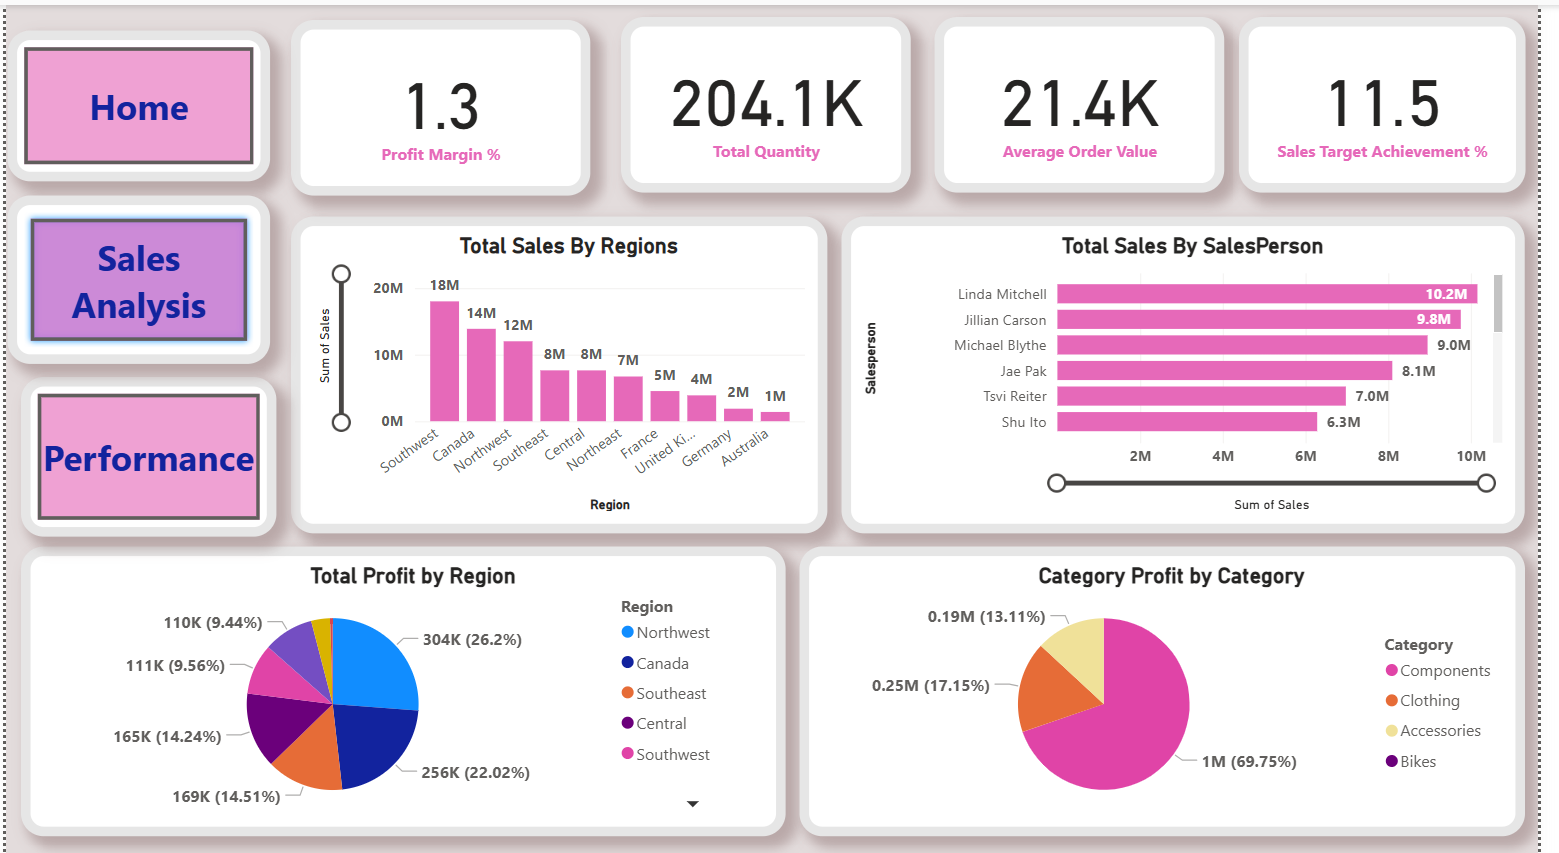

This screenshot's page, from the dashboard's own definition file:
{"tool":"powerbi","page":{"name":"SALES ANALYSIS","canvas":[1280,720],"ordinal":1},"visuals":[{"type":"columnChart","title":"Total Sales By Regions","fields":{"Category":["business_insights region.Region"],"Y":["business_insights sales.Sales"]},"box":[237.7,177.2,448.2,265],"z":0},{"type":"card","fields":{"Values":["Sales.Total Quantity"]},"box":[513.3,10.6,242.3,146.9],"z":1000},{"type":"barChart","title":"Total Sales By SalesPerson","fields":{"Category":["business_insights salesperson.Salesperson"],"Y":["business_insights sales.Sales"]},"box":[698.5,176.9,309.9,264.7],"z":2000},{"type":"pieChart","fields":{"Category":["Regions.Region"],"Y":["Sales.Total Profit"]},"box":[12.1,452.7,639,242.3],"z":3000},{"type":"card","fields":{"Values":["Sales.Profit Margin %"]},"box":[237.7,12.1,249.8,146.9],"z":4000},{"type":"card","fields":{"Values":["Sales.Average Order Value"]},"box":[775.3,10.6,242.3,146.9],"z":5000},{"type":"card","fields":{"Values":["Sales.Sales Target Achievement %"]},"box":[1029.7,10.6,239.2,146.9],"z":6000},{"type":"pieChart","fields":{"Category":["Product.Category"],"Y":["Product.Category Profit"]},"box":[663.2,452.7,605.7,242.3],"z":7000},{"type":"actionButton","box":[12.1,310.4,213.5,133.3],"z":8000},{"type":"actionButton","box":[1.5,21.2,219.6,125.7],"z":9000},{"type":"actionButton","box":[1.5,159,219.6,140.8],"z":10000},{"type":"slicer","fields":{"Values":["Product.Category"]},"box":[1017.5,175.6,239.2,265],"z":10001}]}

Visuals, with their boxes in screenshot pixels (x1, y1, x2, y2), scaled from the page's 1280x720 canvas onto the 1559x853 screenshot:
"Total Sales By Regions" columnChart: l=290, t=210, r=835, b=524
card - Sales.Total Quantity: l=625, t=13, r=920, b=187
"Total Sales By SalesPerson" barChart: l=851, t=210, r=1228, b=523
pieChart - Regions.Region x Sales.Total Profit: l=15, t=536, r=793, b=823
card - Sales.Profit Margin %: l=290, t=14, r=594, b=188
card - Sales.Average Order Value: l=944, t=13, r=1239, b=187
card - Sales.Sales Target Achievement %: l=1254, t=13, r=1545, b=187
pieChart - Product.Category x Product.Category Profit: l=808, t=536, r=1545, b=823
actionButton: l=15, t=368, r=275, b=526
actionButton: l=2, t=25, r=269, b=174
actionButton: l=2, t=188, r=269, b=355
slicer - Product.Category: l=1239, t=208, r=1531, b=522
